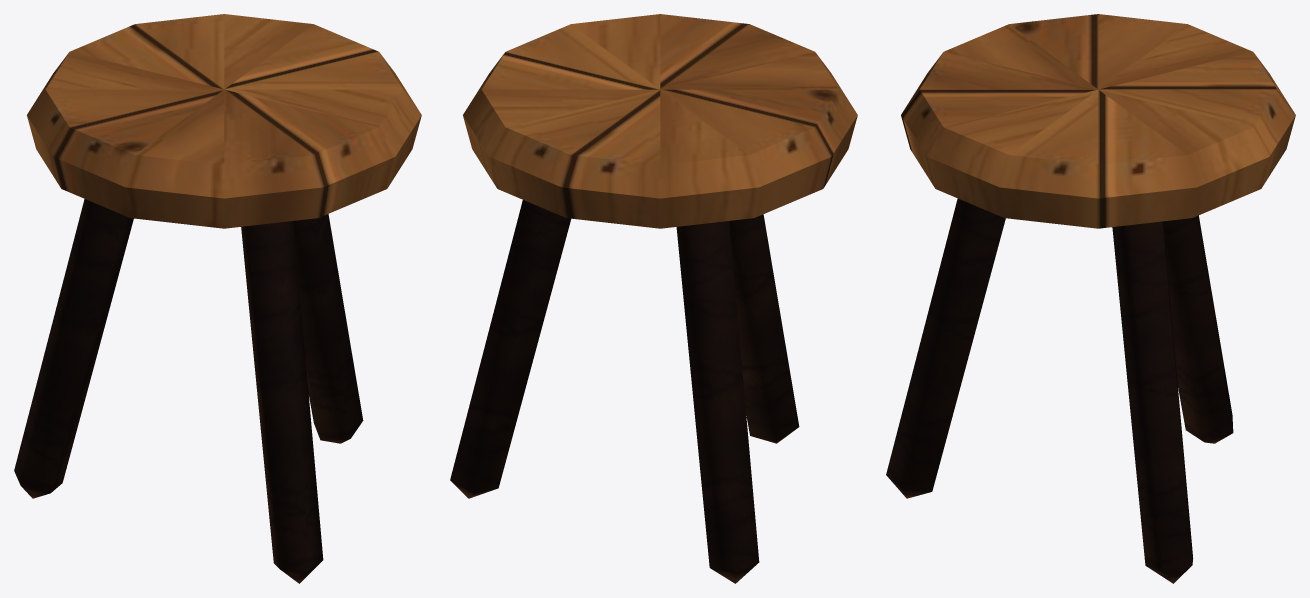
The model's file is interior_stool.glb.
The picture shows the model from 3 angles, left to right: view 1: azimuth 30°, elevation 25°; view 2: azimuth 150°, elevation 25°; view 3: azimuth 270°, elevation 25°; orthographic projection.
Parts seen in each view (by area): view 1: interior_stool; view 2: interior_stool; view 3: interior_stool.
Part boxes in pixels (x1,y1,x2,y2): interior_stool: (14,14,421,583); interior_stool: (450,14,857,583); interior_stool: (886,14,1295,583).
Size of the model in its own units: 0.4202 by 0.4918 by 0.4357.
2 materials, 2 textured.
